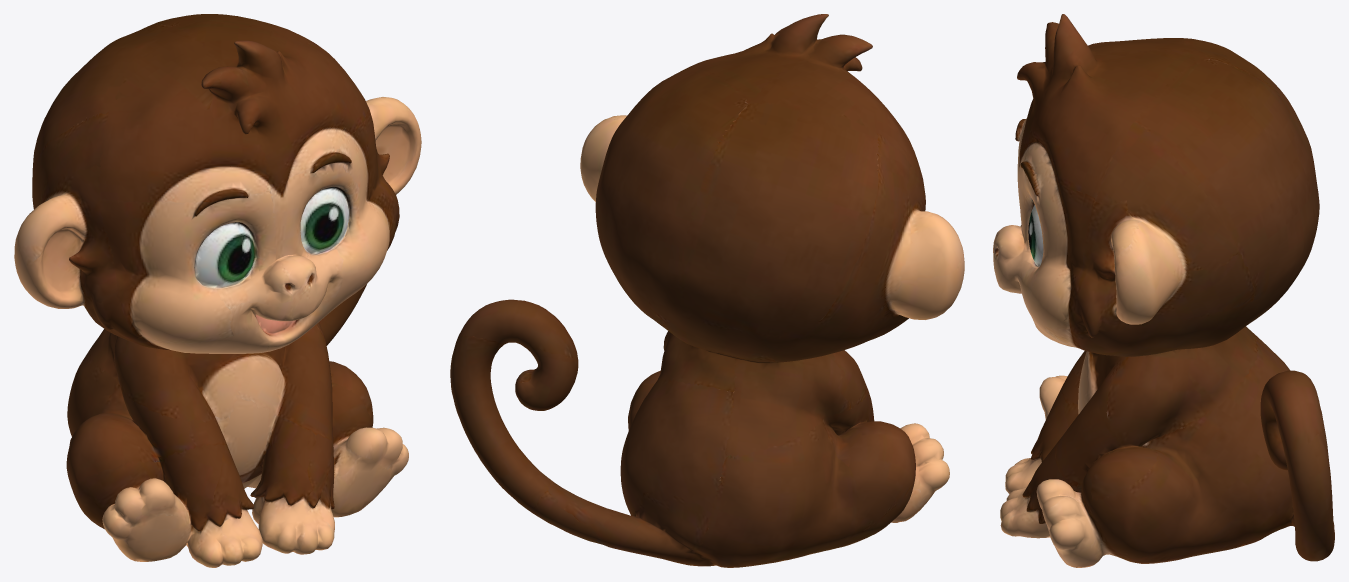
3 renders of one model, left to right at view 1: azimuth 30°, elevation 25°; view 2: azimuth 150°, elevation 25°; view 3: azimuth 270°, elevation 25°, orthographic. The views are drawn at different scales.
Size of the model in its own units: 1.77 by 1.9 by 1.2.
1 material, 1 textured.
